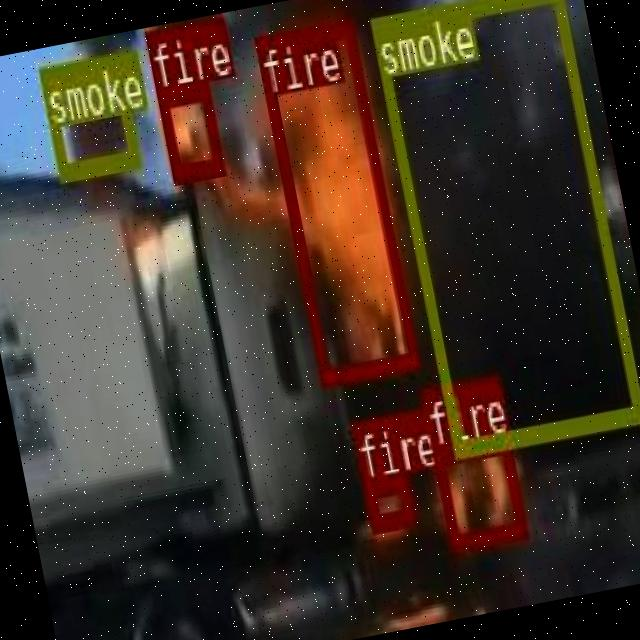fire: (252, 16, 418, 386), (431, 433, 526, 548), (154, 81, 221, 180), (360, 471, 416, 530)
smoke: (369, 0, 640, 455), (36, 48, 140, 178)
